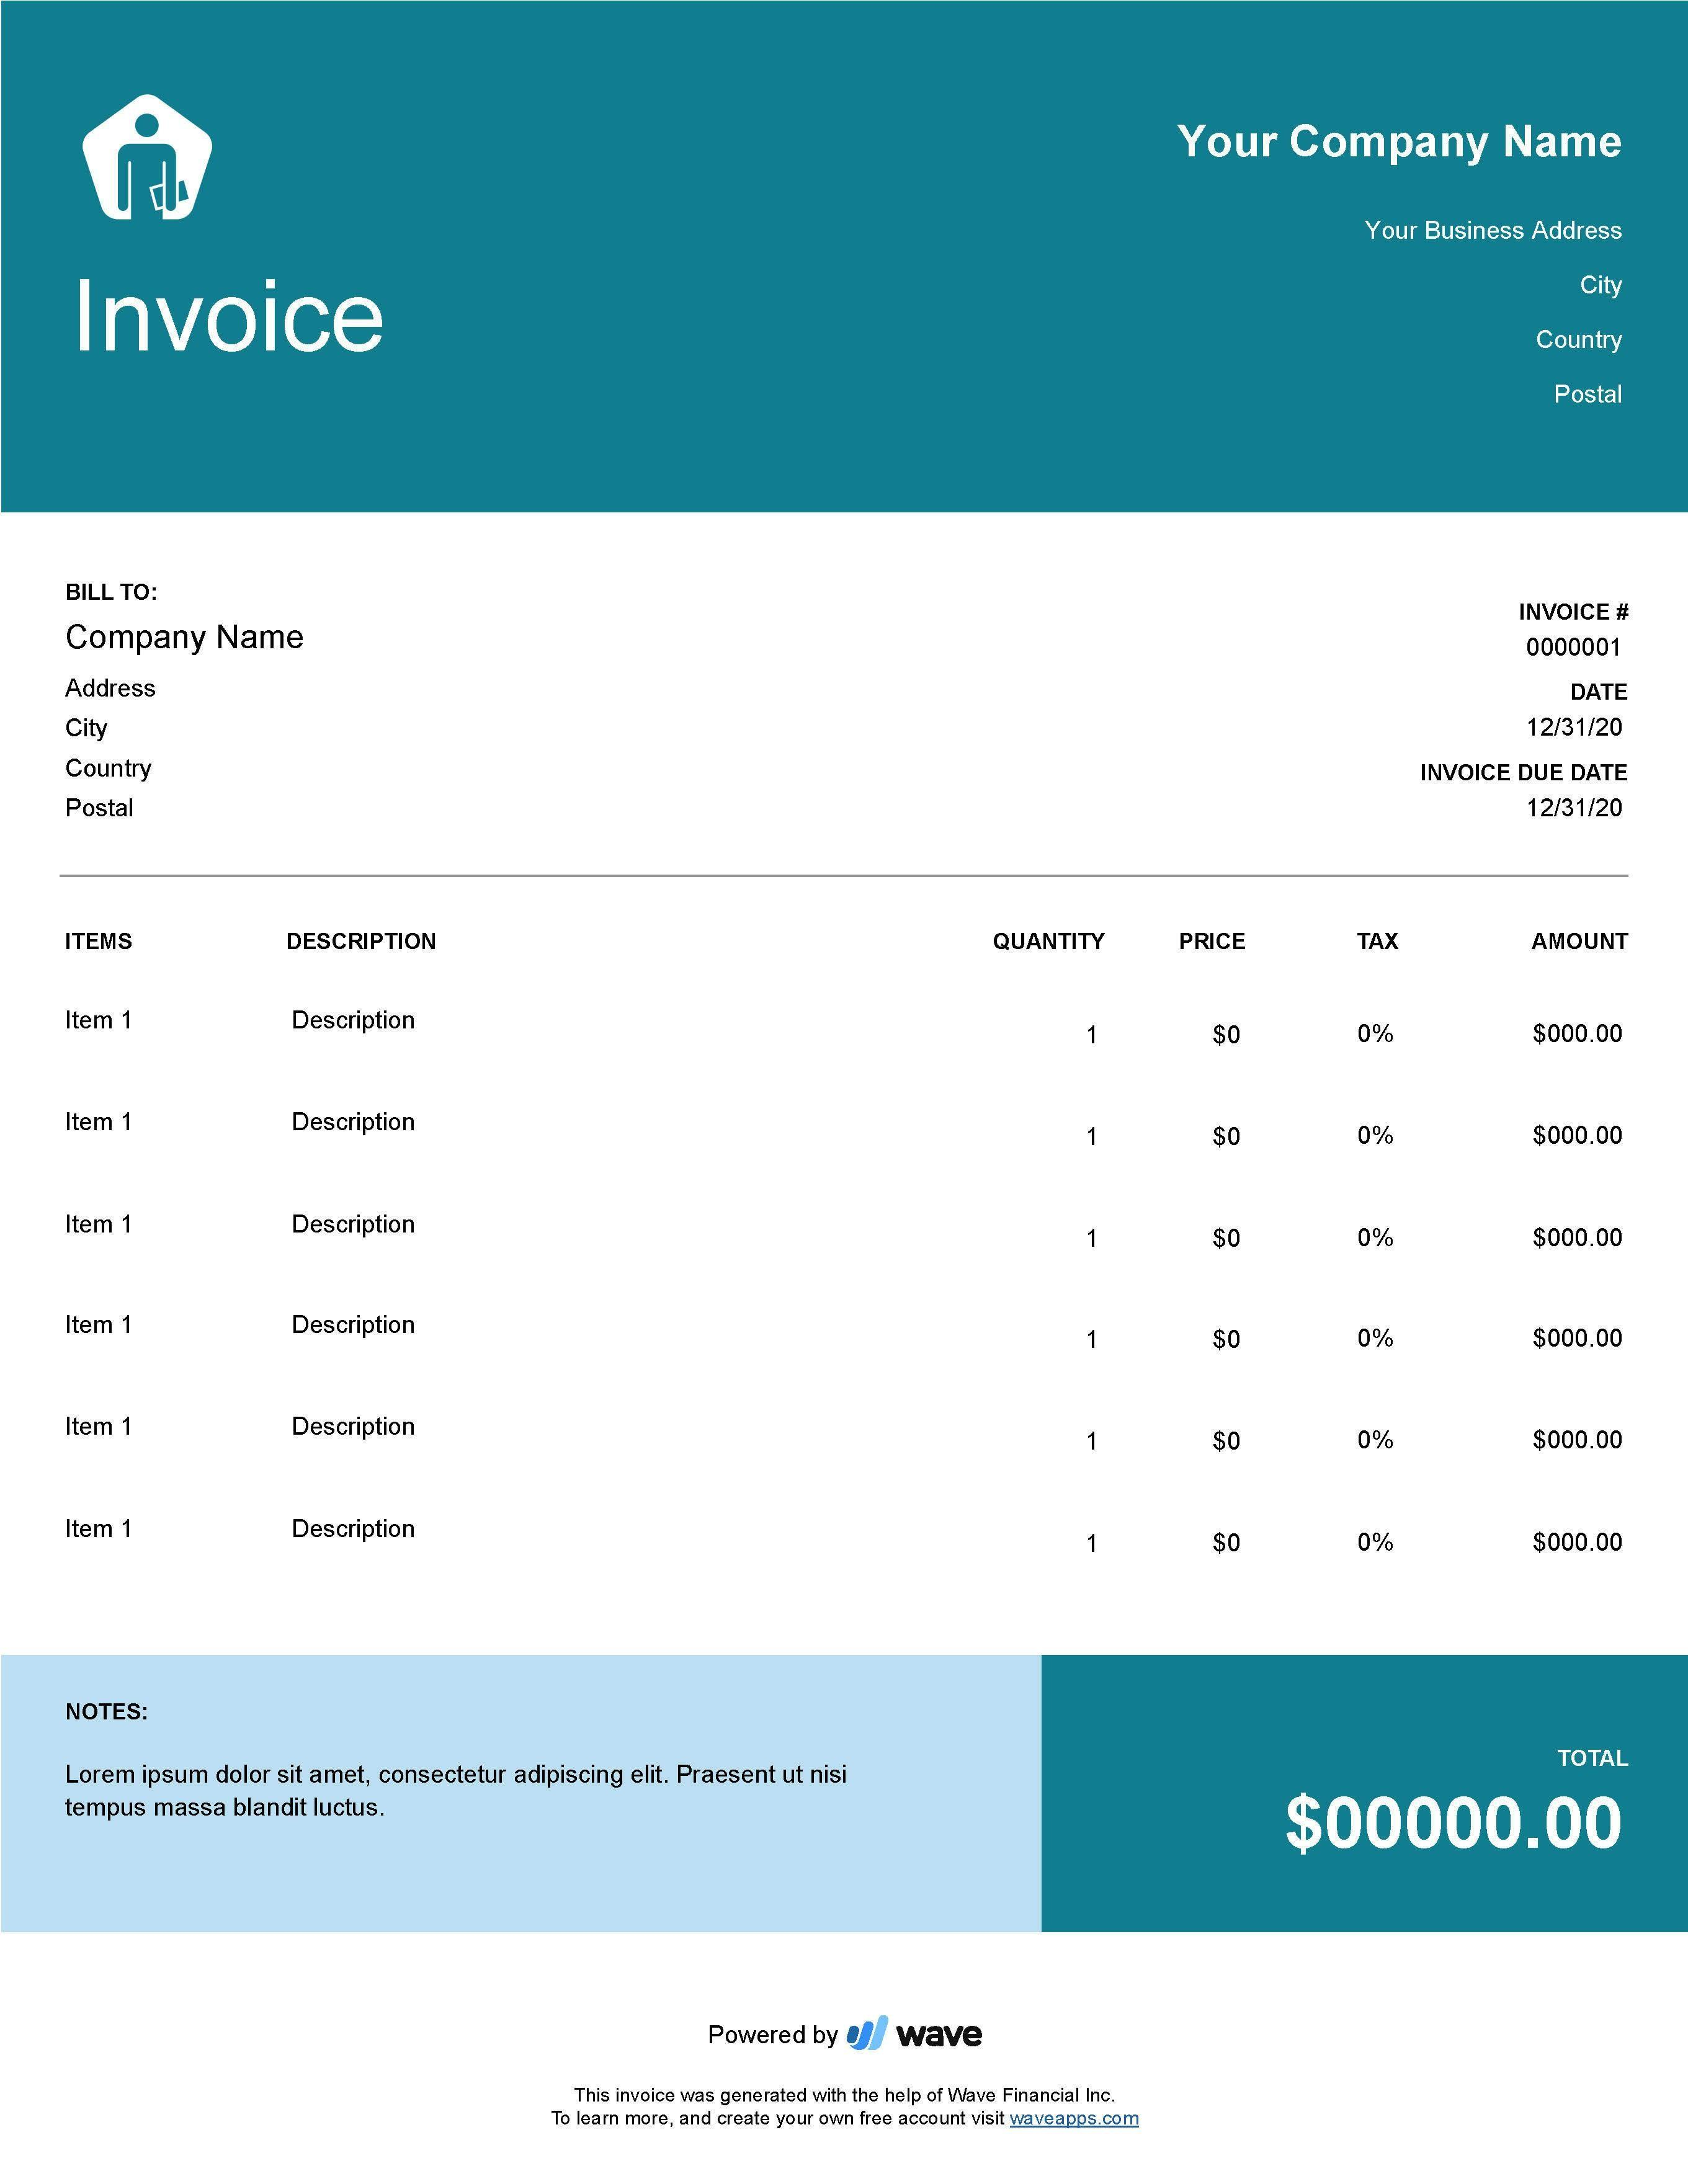ROI: (48, 899, 1651, 1585), (1149, 78, 1668, 475), (51, 560, 629, 847), (51, 1684, 897, 1844), (1179, 1718, 1651, 1877), (1395, 569, 1653, 849)
